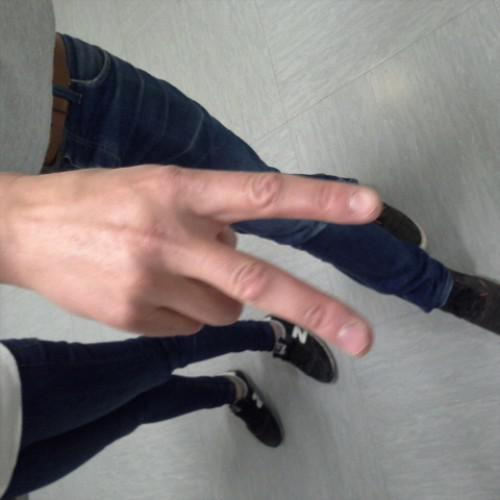scissors: (47, 161, 398, 363)
